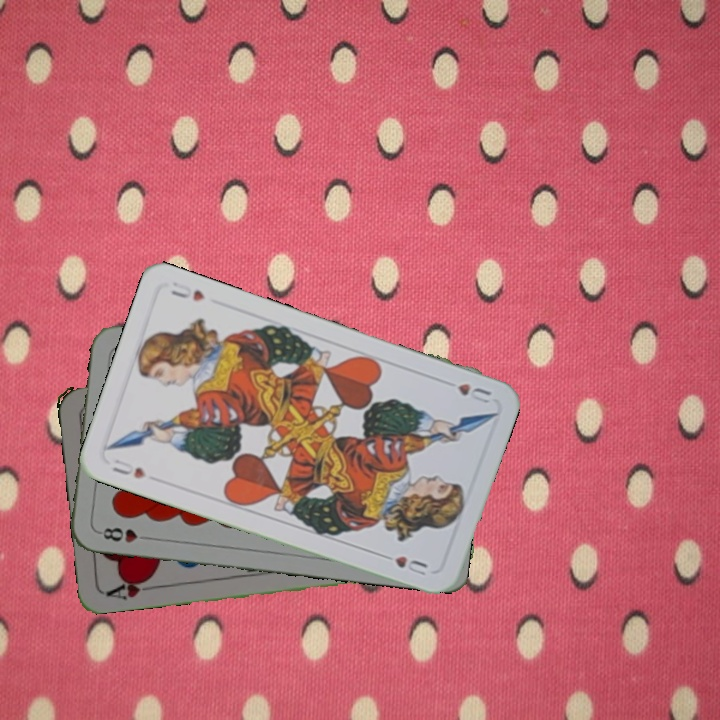H8: (94, 523, 154, 545)
HA: (102, 572, 161, 603)
HU: (454, 379, 494, 408), (108, 455, 149, 482)
